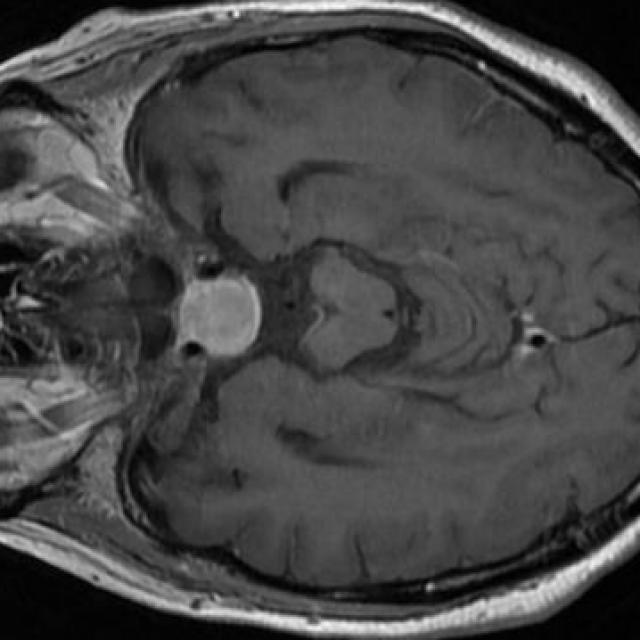pituitary: (176, 275, 260, 357)
